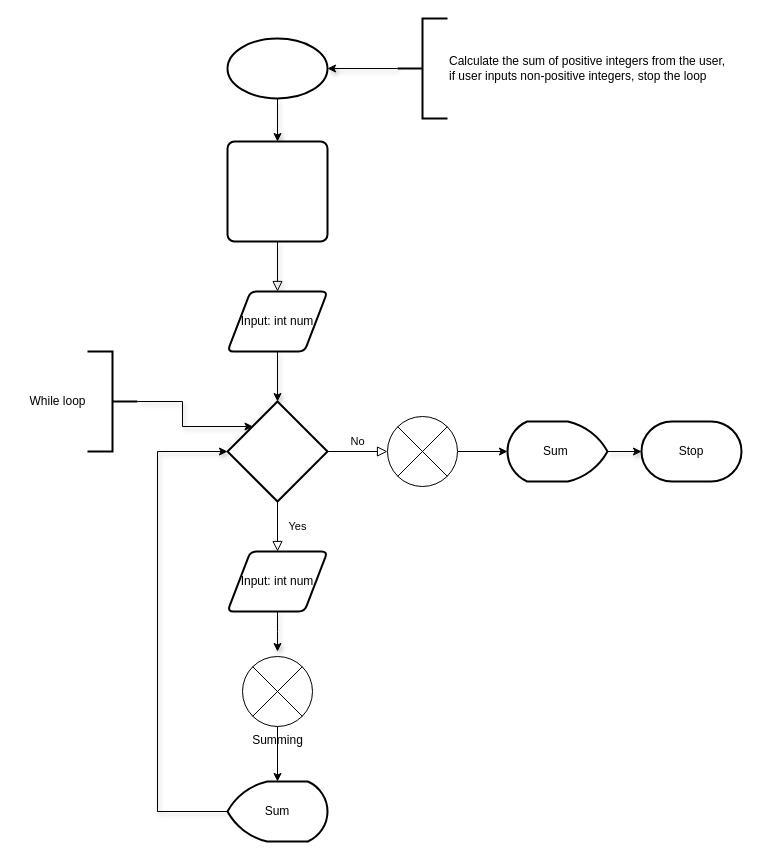
Some shapes in this 759 by 859 pixel diagram are drawn without their labels. The shapes that lost their labels are listed below. From the top down, each one's centre as x and y in pixels, then its label:
At pixel 277 68: "Start".
At pixel 277 191: "Initialize the variables".
At pixel 277 451: "is input positive?".
